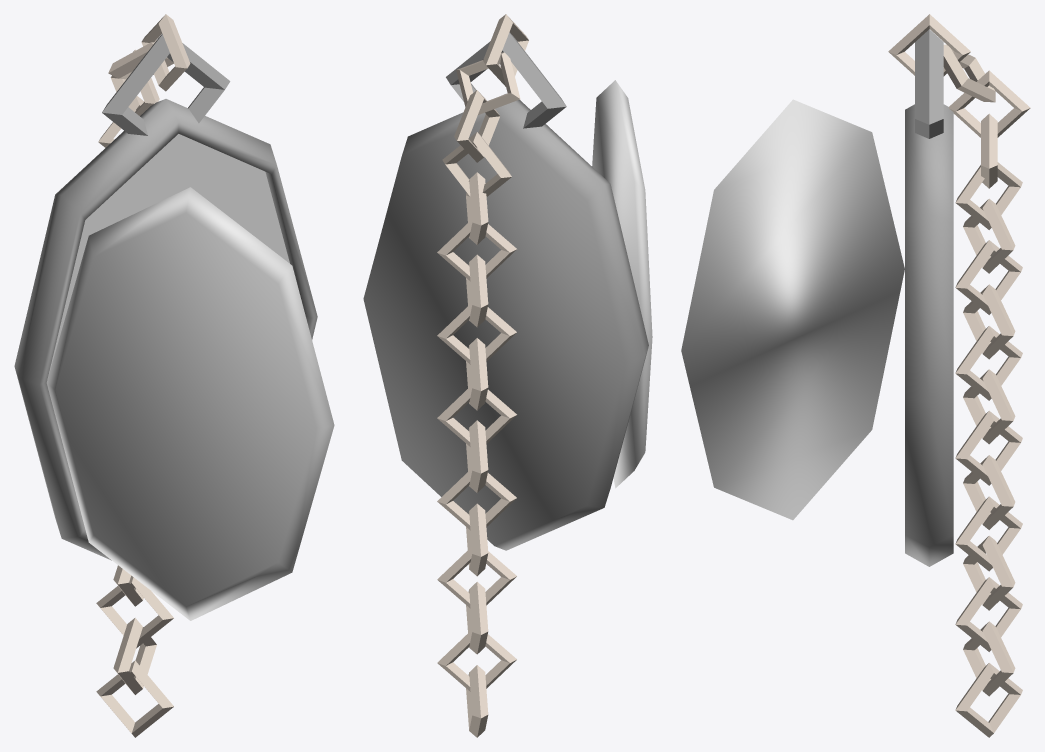
Rendered from Locket.fbx.
The picture shows the model from 3 angles, left to right: view 1: azimuth 30°, elevation 25°; view 2: azimuth 150°, elevation 25°; view 3: azimuth 270°, elevation 25°; orthographic projection. The views are drawn at different scales.
Parts seen in each view (by area): view 1: Door, Base Shape, Image, Chain, Chain Link.015, Chain Link.016, Chain Link.014, Chain Link, Chain Link.001, Chain Link.002, Chain Link.013; view 2: Base Shape, Door, Chain, Chain Link.016, Chain Link.012, Chain Link.008, Chain Link.005, Chain Link.013, Chain Link.009, Chain Link.002, Chain Link.001, Chain Link.003 (+8 smaller); view 3: Door, Base Shape, Chain, Chain Link.015, Chain Link.002, Chain Link.010, Chain Link.011, Chain Link.007, Chain Link.014, Chain Link.006, Chain Link.016, Chain Link.008 (+8 smaller).
Boxes of the visible parts, x1=… form: Door: x1=46, y1=187, x2=334, y2=620; Base Shape: x1=14, y1=99, x2=317, y2=560; Image: x1=47, y1=134, x2=289, y2=379; Chain: x1=102, y1=34, x2=230, y2=135; Chain Link.015: x1=96, y1=660, x2=173, y2=737; Chain Link.016: x1=113, y1=618, x2=156, y2=694; Chain Link.014: x1=96, y1=575, x2=173, y2=648; Chain Link: x1=141, y1=14, x2=190, y2=91; Chain Link.001: x1=108, y1=42, x2=173, y2=79; Chain Link.002: x1=110, y1=49, x2=159, y2=115; Chain Link.013: x1=113, y1=565, x2=143, y2=606; Base Shape: x1=363, y1=93, x2=648, y2=550; Door: x1=592, y1=80, x2=652, y2=488; Chain: x1=446, y1=32, x2=566, y2=128; Chain Link.016: x1=437, y1=630, x2=516, y2=691; Chain Link.012: x1=437, y1=385, x2=516, y2=446; Chain Link.008: x1=437, y1=303, x2=516, y2=364; Chain Link.005: x1=437, y1=219, x2=516, y2=281; Chain Link.013: x1=437, y1=547, x2=516, y2=608; Chain Link.009: x1=437, y1=468, x2=516, y2=530; Chain Link.002: x1=454, y1=90, x2=500, y2=162; Chain Link.001: x1=456, y1=52, x2=520, y2=114; Chain Link.003: x1=442, y1=132, x2=511, y2=196; Door: x1=681, y1=99, x2=904, y2=520; Base Shape: x1=905, y1=104, x2=953, y2=566; Chain: x1=915, y1=29, x2=943, y2=138; Chain Link.015: x1=955, y1=663, x2=1022, y2=737; Chain Link.002: x1=949, y1=70, x2=1030, y2=137; Chain Link.010: x1=955, y1=496, x2=1022, y2=571; Chain Link.011: x1=955, y1=410, x2=1022, y2=485; Chain Link.007: x1=955, y1=326, x2=1022, y2=400; Chain Link.014: x1=955, y1=577, x2=1022, y2=651; Chain Link.006: x1=955, y1=240, x2=1022, y2=314; Chain Link.016: x1=963, y1=621, x2=1015, y2=696; Chain Link.008: x1=963, y1=284, x2=1015, y2=359.
Bounding box in the file's own units: 135 × 326 × 143.
